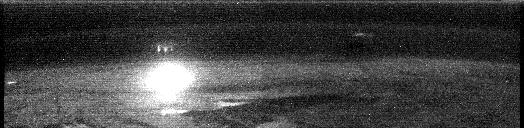positive: (150, 41, 181, 54)
